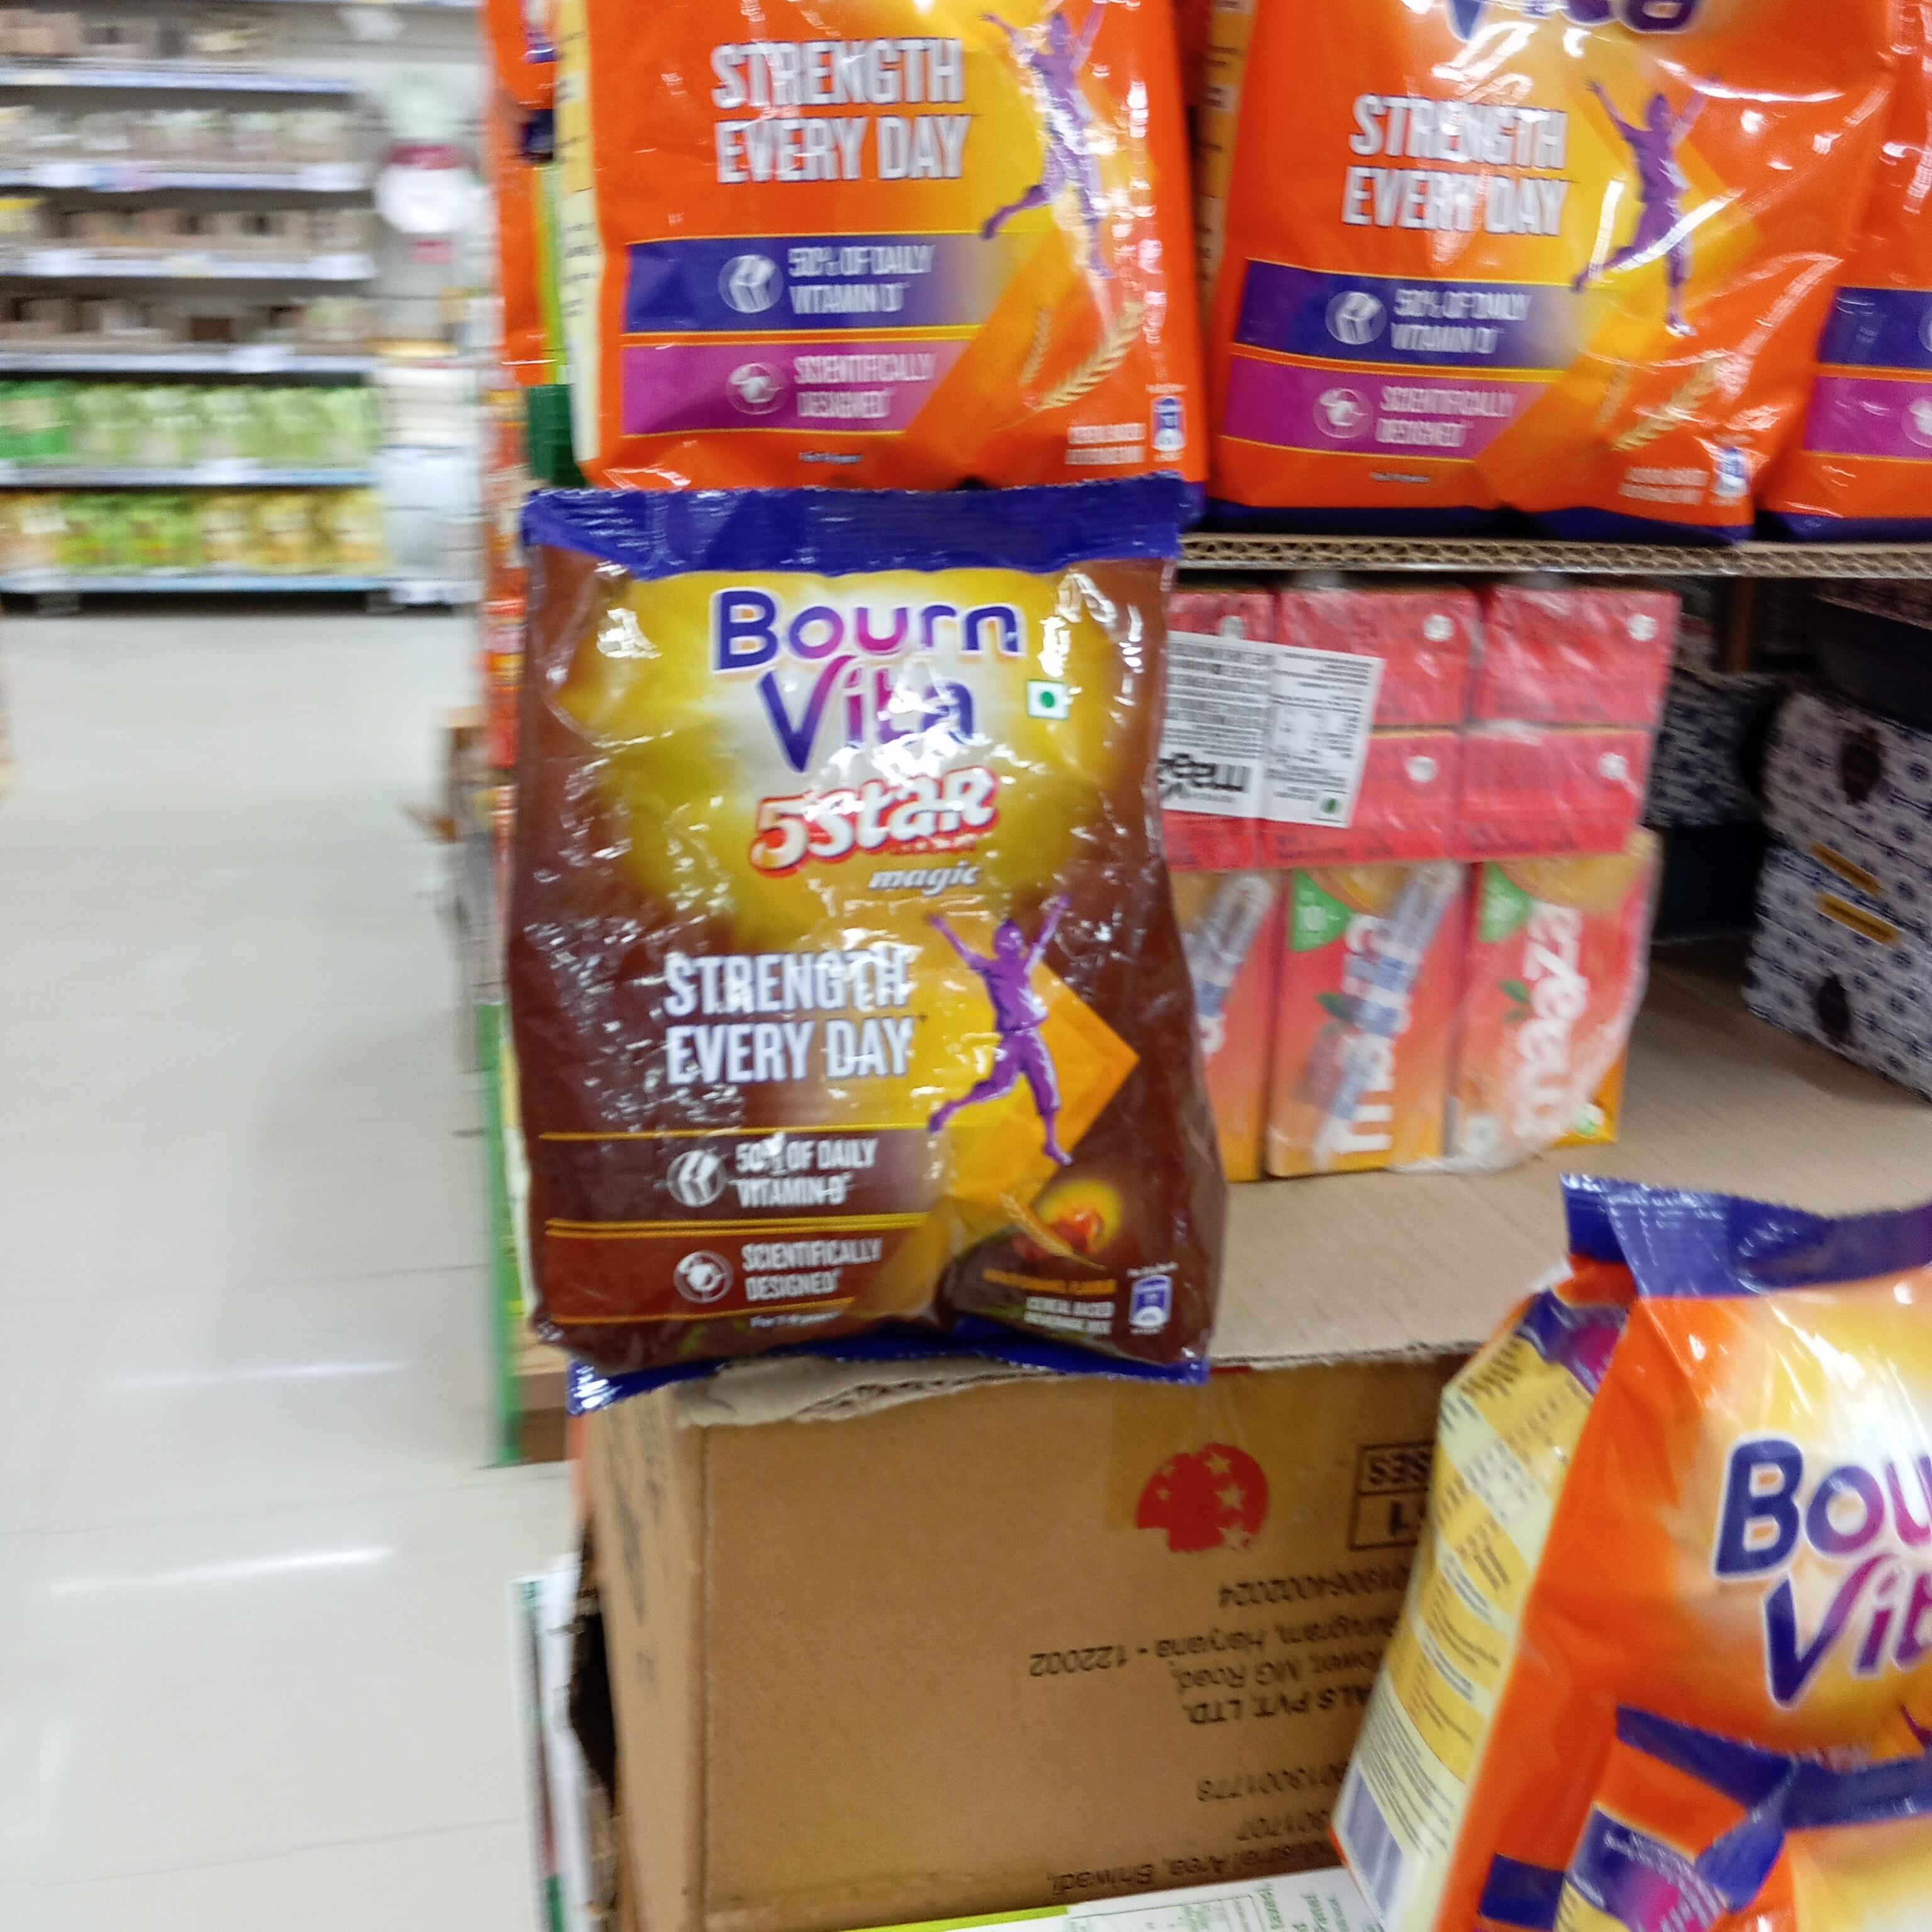BOURN_VITA_FIVE_STAR_MAGIC_500_G_POUCH: (538, 487, 1210, 1355)
